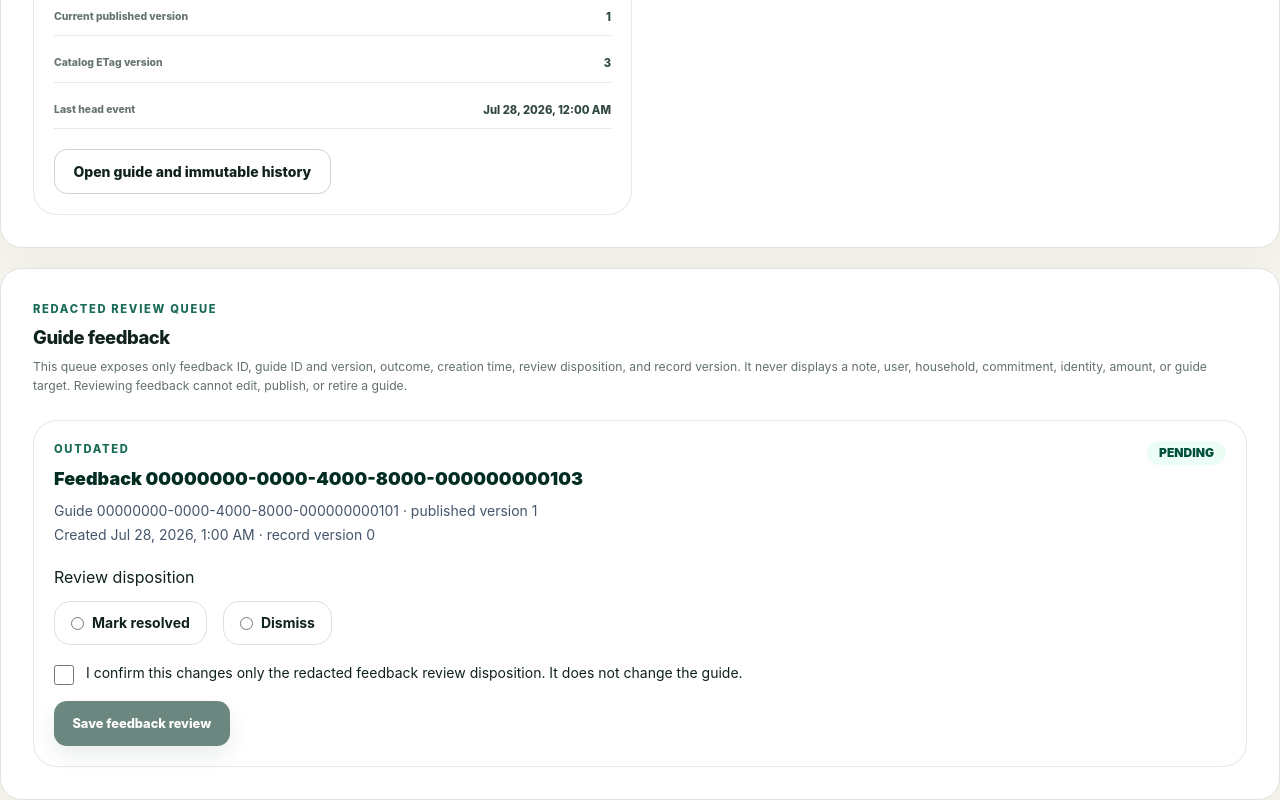
Test: AdminGuideCatalogScreen › requires explicit review confirmation and reuses the idempotency key on retry
The image size is (1280, 800).
(page scrolled)
Expected: the button "Save feedback review" is disabled, [54, 701, 230, 746]
Click the radio button labelled "Mark resolved".
click(78, 623)  # box [71, 617, 84, 630]
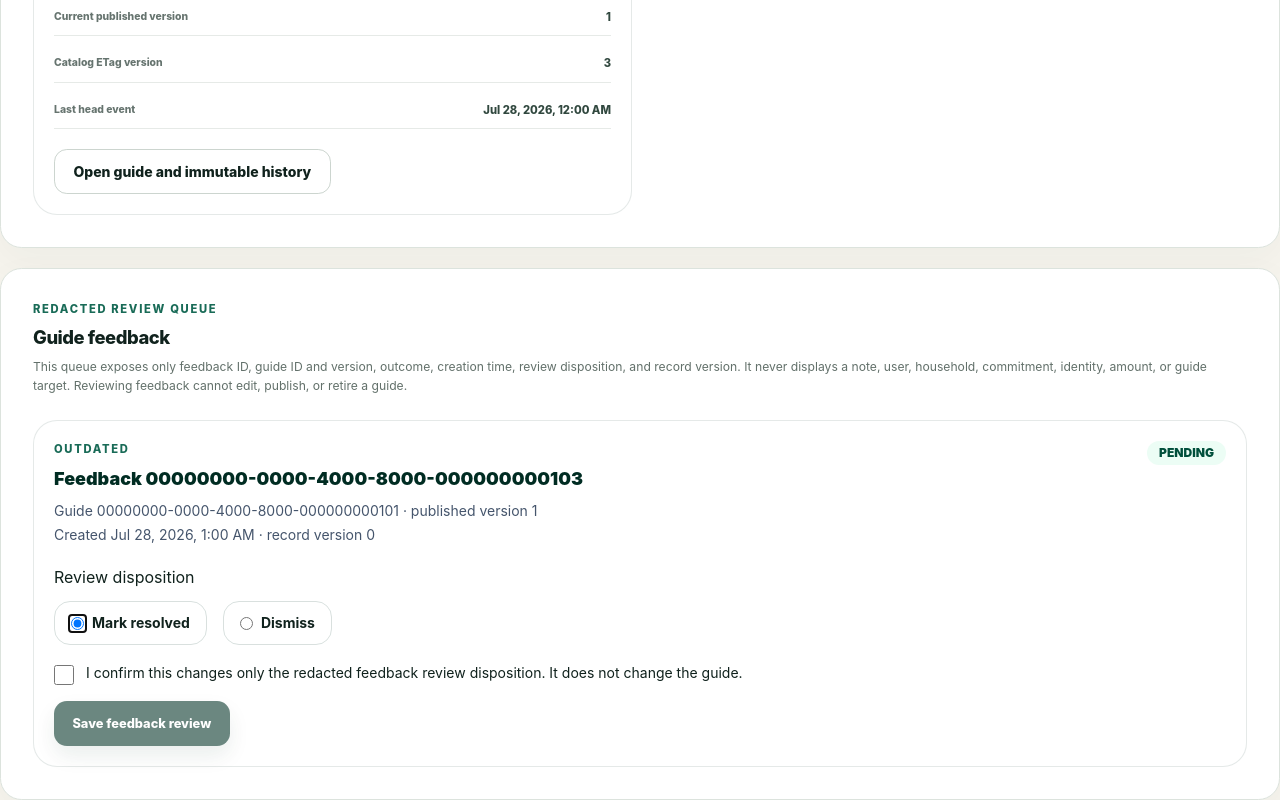
Expected: the button "Save feedback review" is disabled, [54, 701, 230, 746]
Click the checkbox labelled "I confirm this changes only the redacted feedback review".
click(64, 675)  # box [54, 665, 74, 685]
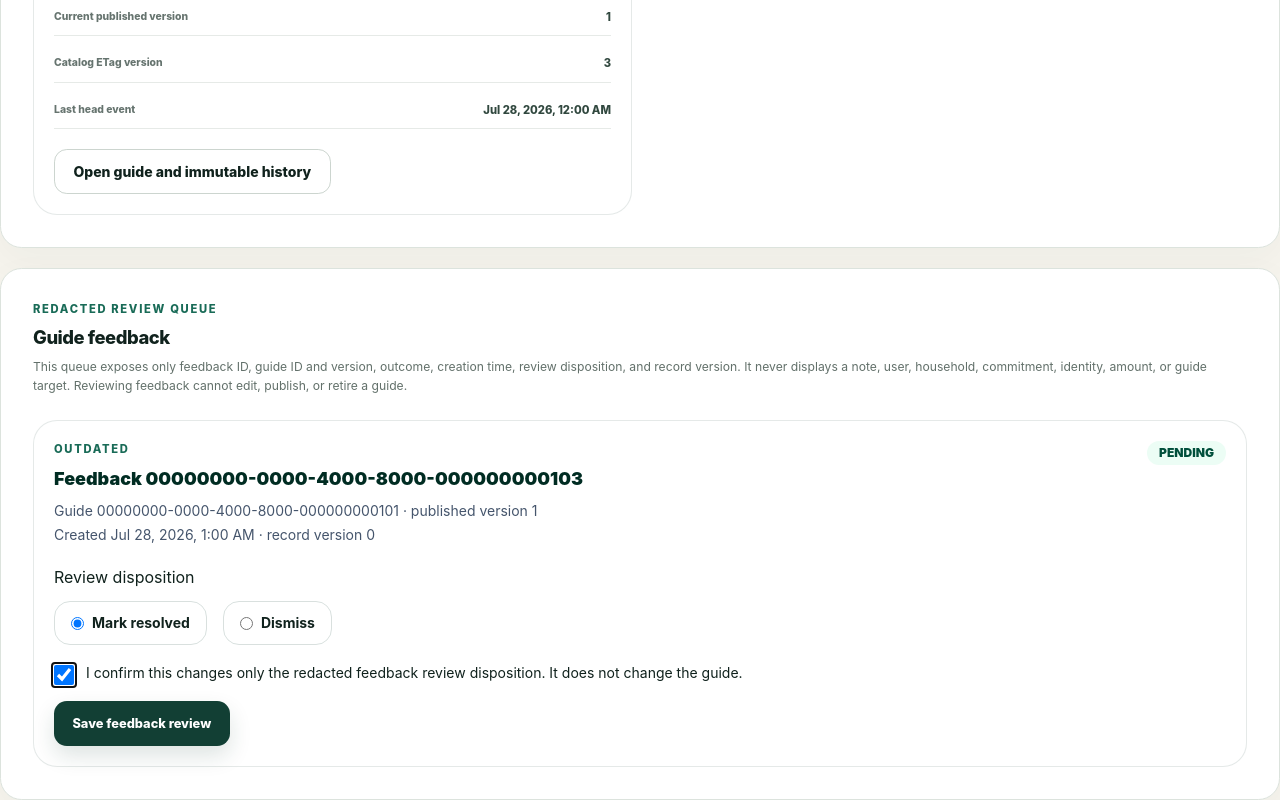
Now the button "Save feedback review" is enabled
Click the button "Save feedback review".
click(142, 724)  # box [54, 701, 230, 746]
(page scrolled)
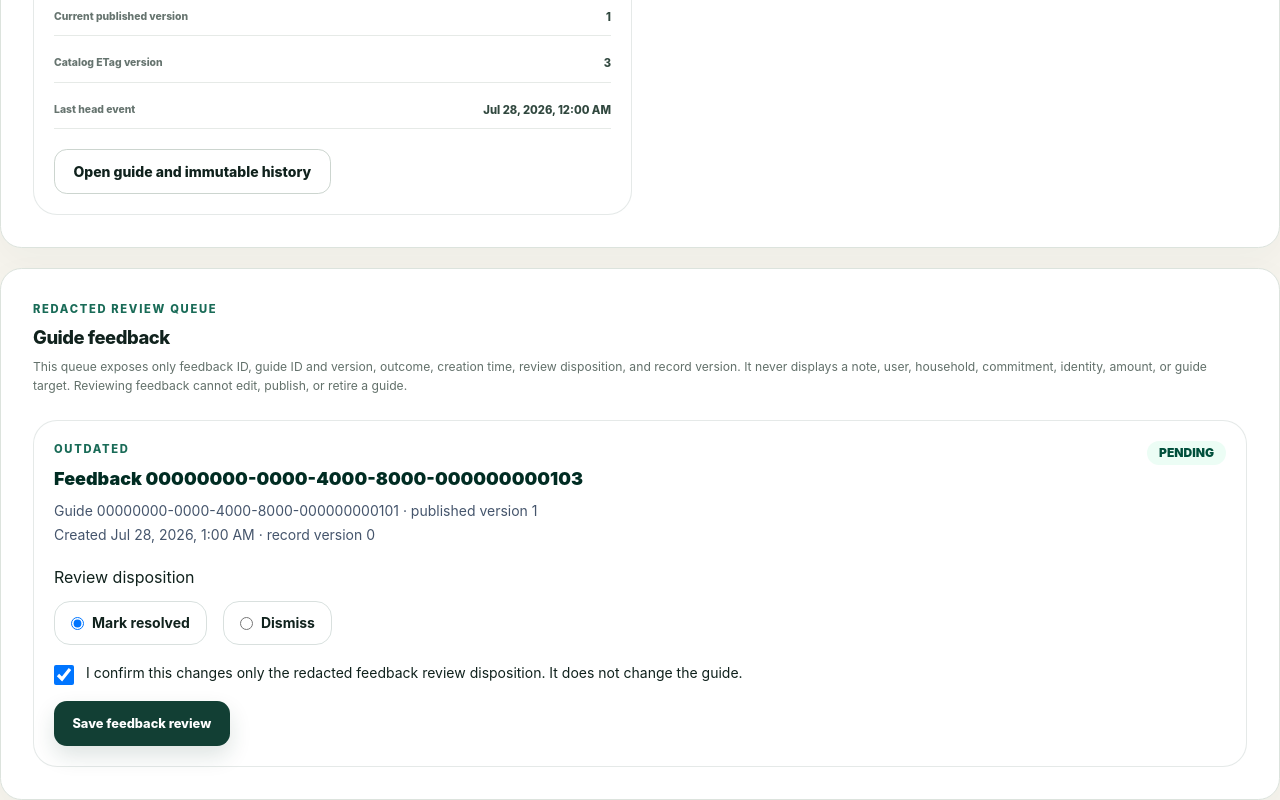
Click the button "Save feedback review".
click(142, 724)  # box [54, 701, 230, 746]
(page scrolled)
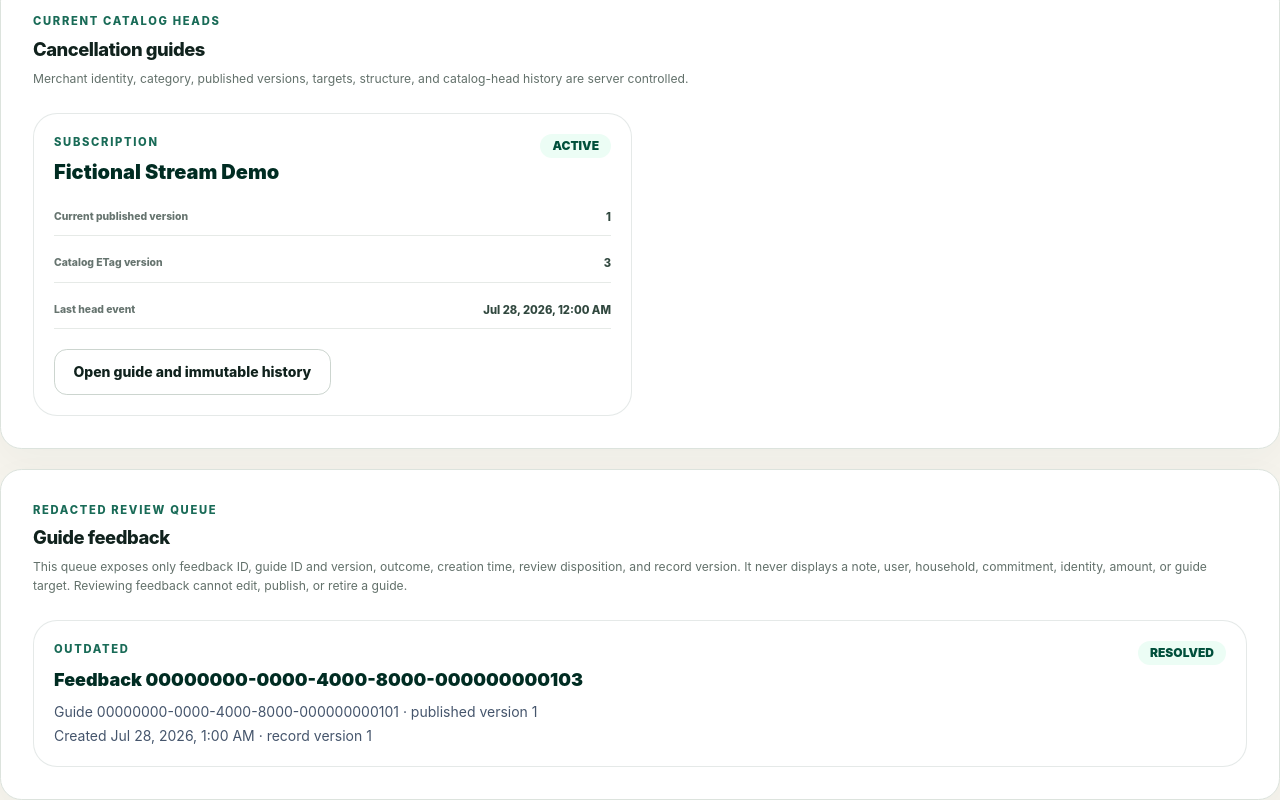
Now the text "RESOLVED" is shown, box [1138, 641, 1226, 665]
